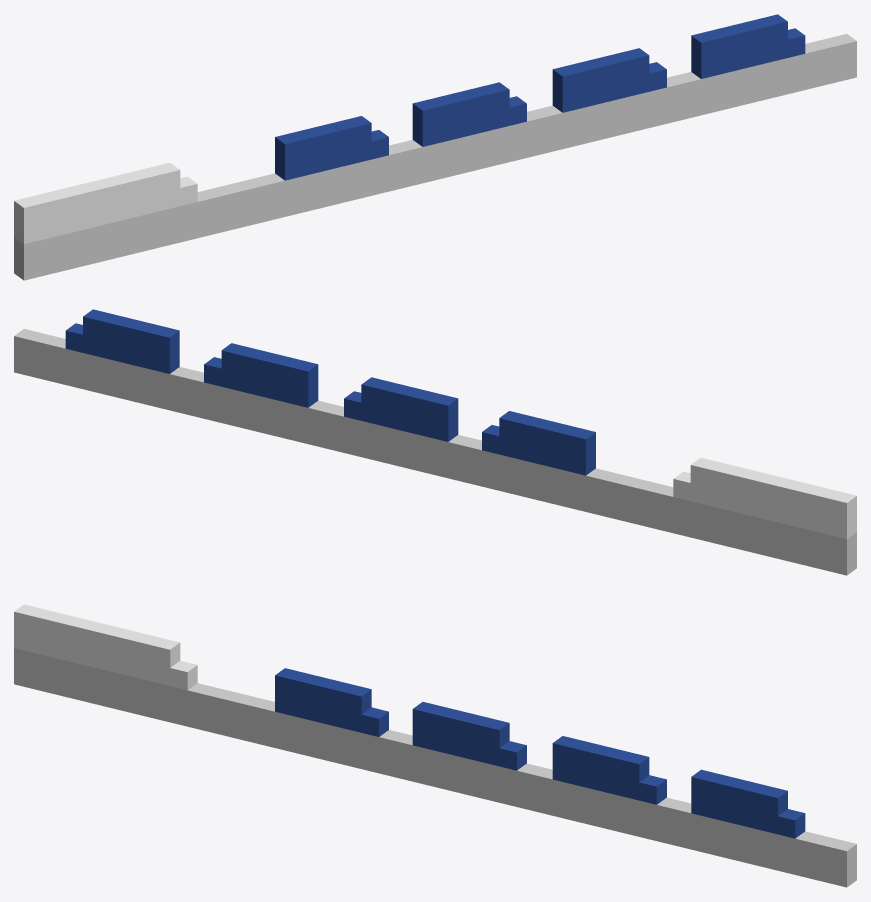
File: Aba.gltf
3 views of the same model, one above another, from view 1: azimuth 30°, elevation 25°; view 2: azimuth 150°, elevation 25°; view 3: azimuth 330°, elevation 25° (orthographic).
Parts seen in each view (by area): view 1: Merged Objects 5, Merged Objects 4, Merged Objects 2, Merged Objects 1, Merged Objects, Merged Objects 3; view 2: Merged Objects 5, Merged Objects 4, Merged Objects 2, Merged Objects 1, Merged Objects, Merged Objects 3; view 3: Merged Objects 5, Merged Objects 4, Merged Objects 1, Merged Objects 2, Merged Objects, Merged Objects 3.
Part boxes in pixels (x1=…): Merged Objects 5: x1=14, y1=34, x2=856, y2=280; Merged Objects 4: x1=14, y1=162, x2=197, y2=244; Merged Objects 2: x1=412, y1=82, x2=526, y2=146; Merged Objects 1: x1=552, y1=48, x2=666, y2=112; Merged Objects: x1=691, y1=14, x2=805, y2=78; Merged Objects 3: x1=275, y1=116, x2=388, y2=180; Merged Objects 5: x1=14, y1=329, x2=856, y2=575; Merged Objects 4: x1=673, y1=457, x2=856, y2=539; Merged Objects 2: x1=344, y1=377, x2=458, y2=441; Merged Objects 1: x1=204, y1=343, x2=318, y2=407; Merged Objects: x1=65, y1=309, x2=179, y2=373; Merged Objects 3: x1=482, y1=411, x2=595, y2=475; Merged Objects 5: x1=14, y1=648, x2=856, y2=887; Merged Objects 4: x1=14, y1=604, x2=197, y2=690; Merged Objects 1: x1=552, y1=736, x2=666, y2=804; Merged Objects 2: x1=412, y1=702, x2=526, y2=770; Merged Objects: x1=691, y1=769, x2=805, y2=838; Merged Objects 3: x1=275, y1=668, x2=388, y2=736.
Bounding box in the file's own units: 4.8 × 0.4 × 0.1.
